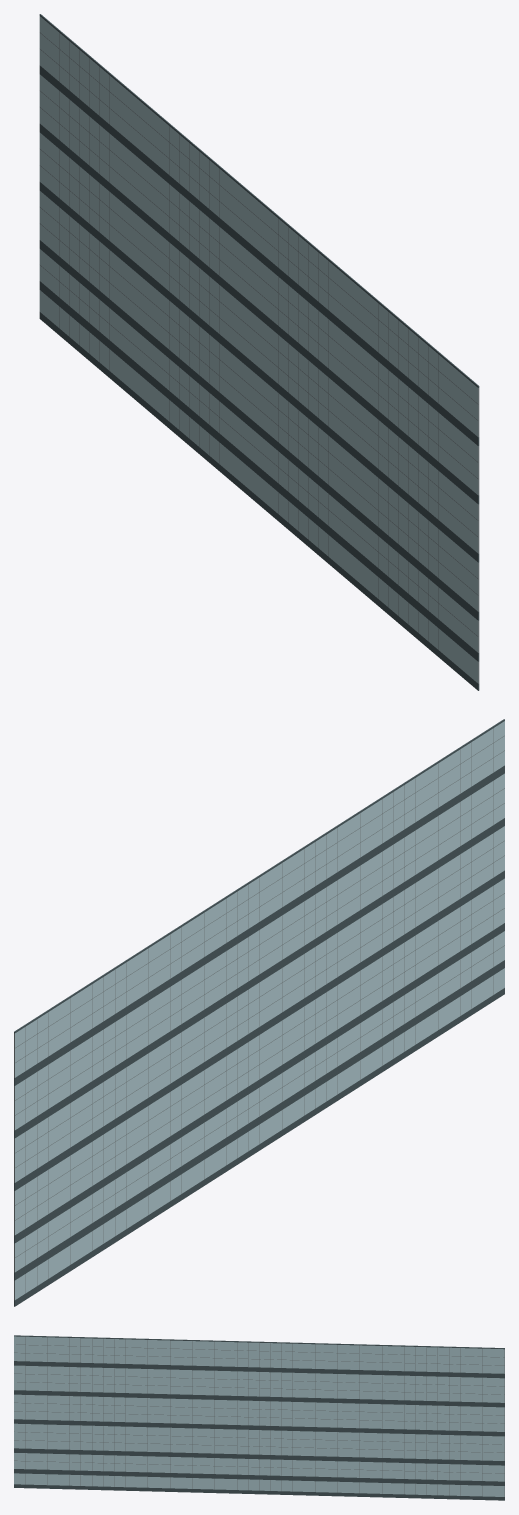
Rendered from G7_Completion_Prior_G7_MiddleExteriorSkin_E02_r001.glb.
3 views of the same model, one above another, from view 1: azimuth 30°, elevation 25°; view 2: azimuth 150°, elevation 25°; view 3: azimuth 270°, elevation 25° (orthographic). The views are drawn at different scales.
Visible parts, largest first — view 1: G7_MiddleSkin_E02_glazing, G7_MiddleSkin_E02_spandrel, G7_MiddleSkin_E02_joint; view 2: G7_MiddleSkin_E02_glazing, G7_MiddleSkin_E02_spandrel, G7_MiddleSkin_E02_joint; view 3: G7_MiddleSkin_E02_glazing, G7_MiddleSkin_E02_spandrel, G7_MiddleSkin_E02_joint.
Boxes of the visible parts, x1,y1,x2,y2 form: G7_MiddleSkin_E02_glazing: [39, 16, 478, 683]; G7_MiddleSkin_E02_spandrel: [39, 14, 479, 690]; G7_MiddleSkin_E02_joint: [39, 32, 479, 683]; G7_MiddleSkin_E02_glazing: [15, 721, 504, 1299]; G7_MiddleSkin_E02_spandrel: [14, 719, 504, 1306]; G7_MiddleSkin_E02_joint: [14, 728, 504, 1300]; G7_MiddleSkin_E02_glazing: [14, 1336, 504, 1496]; G7_MiddleSkin_E02_spandrel: [14, 1335, 504, 1500]; G7_MiddleSkin_E02_joint: [14, 1337, 504, 1496].
Bounding box in the file's own units: 8.16 × 44.5 × 130.
3 materials, 2 textured.
